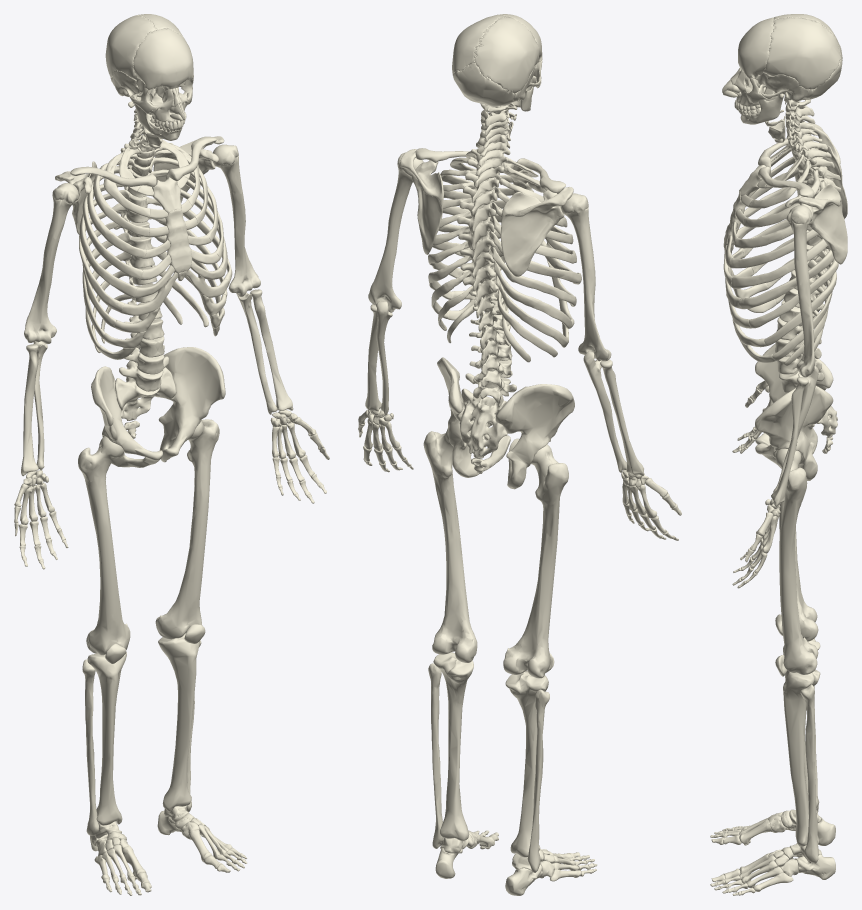
Rendered from skeleton.glb.
3 views of the same model, side by side, from view 1: azimuth 30°, elevation 25°; view 2: azimuth 150°, elevation 25°; view 3: azimuth 270°, elevation 25° (orthographic). The views are drawn at different scales.
Parts seen in each view (by area): view 1: Femur.r_web, Femur.l_web, Hip bone.l_web, Tibia.l_web, Frontal bone_web, Tibia.r_web, Humerus.r_web, Humerus.l_web, Hip bone.r_web, Parietal bone.r_web, Sacrum_web, Fibula.r_web (+18 smaller); view 2: Femur.r_web, Femur.l_web, Hip bone.r_web, Scapula.r_web, Parietal bone.r_web, Tibia.l_web, Tibia.r_web, Humerus.r_web, Humerus.l_web, Hip bone.l_web, Scapula.l_web, Sacrum_web (+15 smaller); view 3: Femur.l_web, Parietal bone.l_web, Tibia.l_web, Hip bone.l_web, Humerus.l_web, Scapula.l_web, Fibula.l_web, Frontal bone_web, Hip bone.r_web, Radius.l_web, Femur.r_web, Seventh rib.l_web (+28 smaller).
Part boxes in pixels (bbox=[...]): Femur.r_web: bbox=[78, 436, 130, 655]; Femur.l_web: bbox=[155, 419, 219, 639]; Hip bone.l_web: bbox=[158, 347, 225, 462]; Tibia.l_web: bbox=[158, 633, 200, 811]; Frontal bone_web: bbox=[133, 28, 193, 91]; Tibia.r_web: bbox=[87, 652, 126, 825]; Humerus.r_web: bbox=[24, 183, 78, 344]; Humerus.l_web: bbox=[212, 144, 260, 296]; Hip bone.r_web: bbox=[91, 366, 162, 467]; Parietal bone.r_web: bbox=[105, 14, 157, 79]; Sacrum_web: bbox=[115, 367, 175, 420]; Fibula.r_web: bbox=[82, 659, 99, 835]; Femur.r_web: bbox=[503, 444, 568, 678]; Femur.l_web: bbox=[423, 428, 477, 662]; Hip bone.r_web: bbox=[495, 384, 574, 489]; Scapula.r_web: bbox=[500, 187, 573, 276]; Parietal bone.r_web: bbox=[474, 16, 539, 93]; Tibia.l_web: bbox=[433, 652, 473, 840]; Tibia.r_web: bbox=[505, 671, 548, 857]; Humerus.r_web: bbox=[561, 193, 611, 361]; Humerus.l_web: bbox=[368, 152, 423, 312]; Hip bone.l_web: bbox=[437, 357, 510, 477]; Scapula.l_web: bbox=[400, 149, 443, 254]; Sacrum_web: bbox=[459, 388, 507, 458]; Femur.l_web: bbox=[775, 448, 818, 674]; Parietal bone.l_web: bbox=[763, 17, 840, 89]; Tibia.l_web: bbox=[783, 669, 820, 846]; Hip bone.l_web: bbox=[755, 386, 833, 480]; Humerus.l_web: bbox=[786, 205, 815, 377]; Scapula.l_web: bbox=[785, 183, 847, 264]; Fibula.l_web: bbox=[800, 684, 818, 863]; Frontal bone_web: bbox=[738, 17, 774, 78]; Hip bone.r_web: bbox=[755, 343, 833, 453]; Radius.l_web: bbox=[771, 377, 808, 506]; Femur.r_web: bbox=[779, 470, 818, 641]; Seventh rib.l_web: bbox=[739, 249, 834, 309].
Bounding box in the file's own units: 0.6692 × 1.7 × 0.2501.
